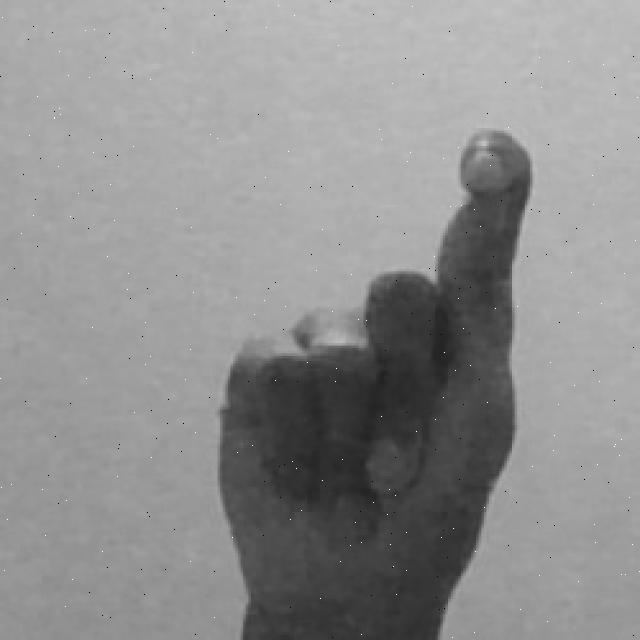T: (207, 120, 535, 640)
